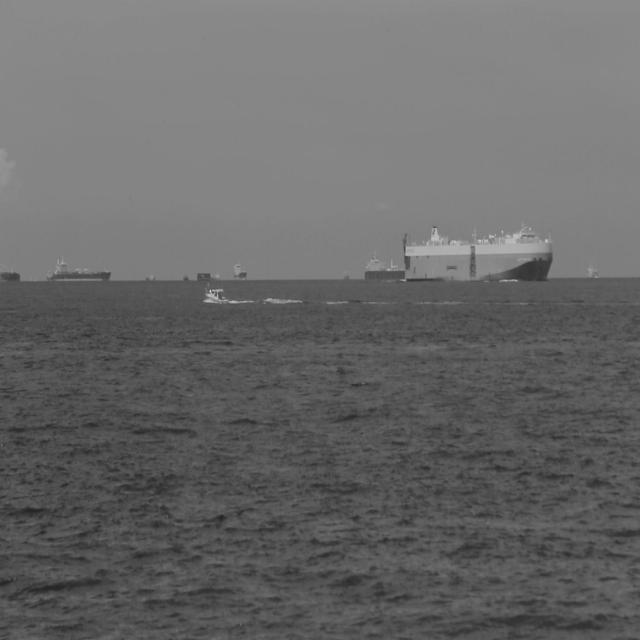ship: (402, 221, 552, 283), (43, 255, 112, 284), (362, 254, 404, 282), (203, 282, 230, 306), (231, 259, 247, 281), (0, 268, 21, 284), (196, 271, 212, 283), (144, 271, 156, 283), (181, 272, 189, 282), (214, 272, 221, 282)
